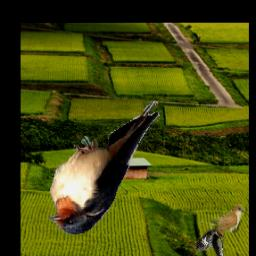Cuckoo: (201, 205, 247, 233)
Swallow: (49, 102, 160, 235)
Woodpecker: (194, 229, 225, 256)
